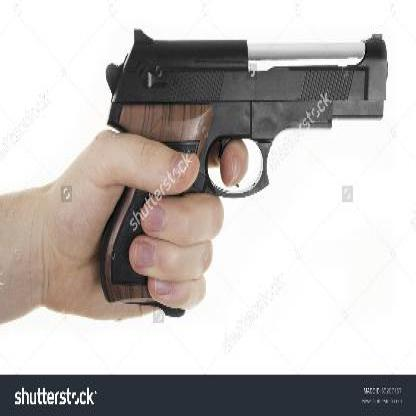pistol: (97, 25, 388, 314)
